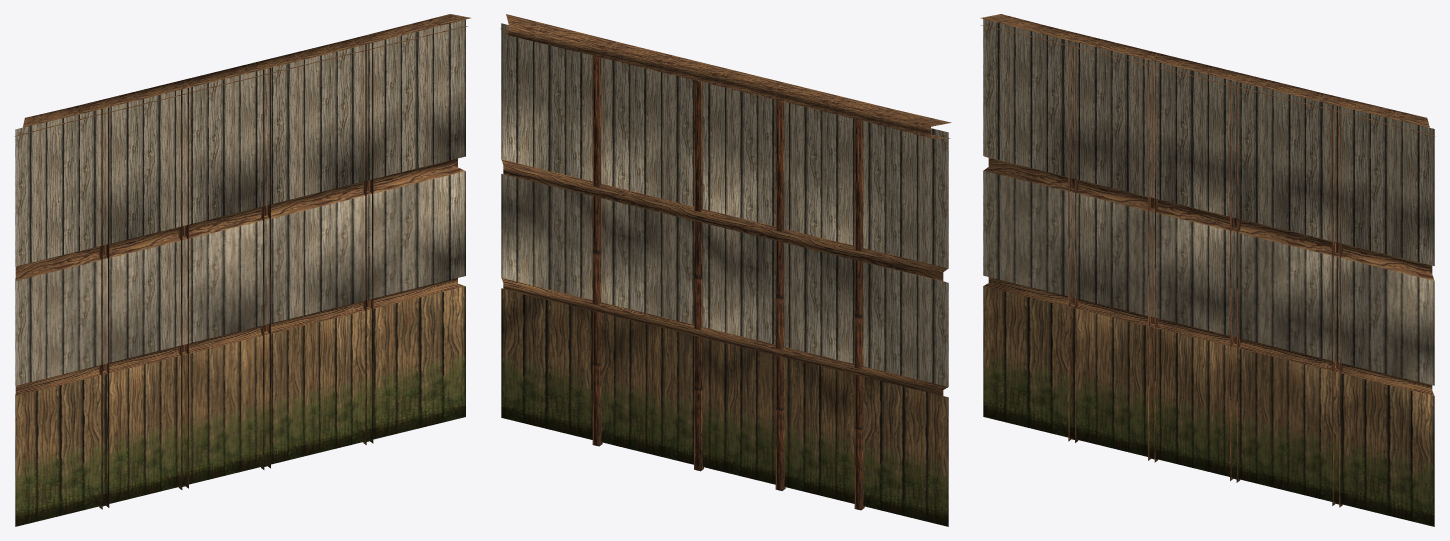
The model's file is LAKETOWN_WAREHOUSE3_PS_WH3_SIDEWALL7746__GX.fbx.
The picture shows the model from 3 angles, left to right: view 1: azimuth 30°, elevation 25°; view 2: azimuth 150°, elevation 25°; view 3: azimuth 330°, elevation 25°; orthographic projection.
Visible parts, largest first — view 1: LAKETOWN_WAREHOUSE3_PS_WH3_SIDEWALL7746__GX; view 2: LAKETOWN_WAREHOUSE3_PS_WH3_SIDEWALL7746__GX; view 3: LAKETOWN_WAREHOUSE3_PS_WH3_SIDEWALL7746__GX.
Boxes of the visible parts, <box> form: LAKETOWN_WAREHOUSE3_PS_WH3_SIDEWALL7746__GX: <box>14,14,470,526</box>; LAKETOWN_WAREHOUSE3_PS_WH3_SIDEWALL7746__GX: <box>500,14,951,526</box>; LAKETOWN_WAREHOUSE3_PS_WH3_SIDEWALL7746__GX: <box>980,14,1435,526</box>.
Size of the model in its own units: 160689 by 136952 by 5834.
6 materials, 6 textured.
